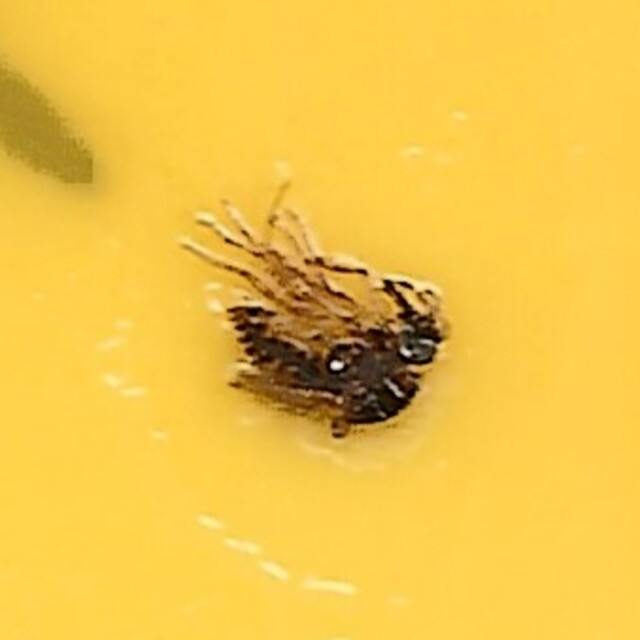Brachycera: (189, 206, 451, 434)
